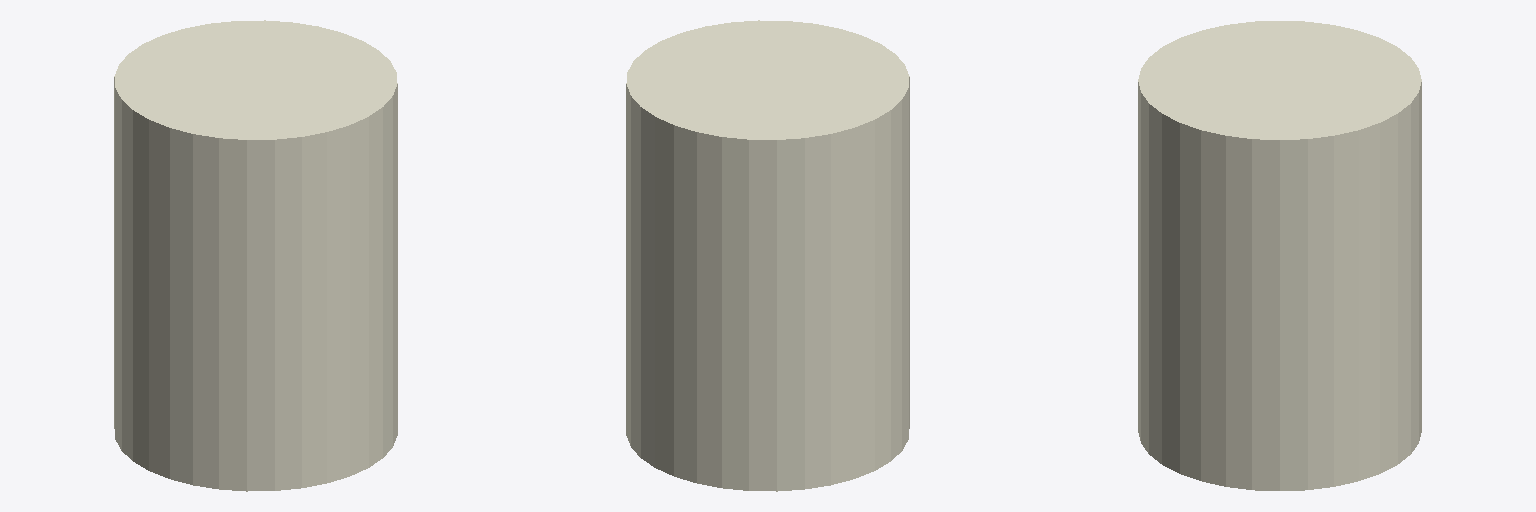
URDF robot description (model.urdf):
<?xml version="0.0" ?>
<robot name="model.urdf">

	<material name="white">
		<color rgba="0.93 0.92 0.85 1"/>
	</material>

	<link name="baseLink">
		<inertial>
			<mass value="0.219"/>
			<inertia  ixx="0.00029286" ixy="0.00"  ixz="0.00" iyy="0.00029286" iyz="0.00" izz="0.00016783" />
		</inertial>
		<visual>
			<origin xyz="0 0 0" rpy="0 0 0"/>
			<geometry>
				<cylinder length="0.107" radius="0.03915"/>
			</geometry>
			<material name="white"/>
		</visual>
		<collision>
			<origin xyz="0 0 0" rpy="0 0 0"/>
			<geometry>
				<cylinder length="0.107" radius="0.03915"/>
			</geometry>
		</collision>
	</link>
</robot>

--- What the picture shows (computed from the rendered views, not written in the file) ---
Views: 3 orthographic renders of the robot side by side, from view 1: azimuth 30°, elevation 25°; view 2: azimuth 150°, elevation 25°; view 3: azimuth 270°, elevation 25°.
Robot: model.urdf — 1 links, 0 joints (none); root link baseLink; default pose: every joint at zero.
Links seen in each view (by area): view 1: baseLink; view 2: baseLink; view 3: baseLink.
Boxes of the visible links, bbox=[...] form: baseLink: bbox=[114, 20, 397, 491]; baseLink: bbox=[626, 20, 909, 491]; baseLink: bbox=[1138, 21, 1421, 490].
Bounding box of the posed robot: 0.0783 × 0.0783 × 0.107 m (x, y, z).
Geometry: primitives only (box / cylinder / sphere), no mesh files.